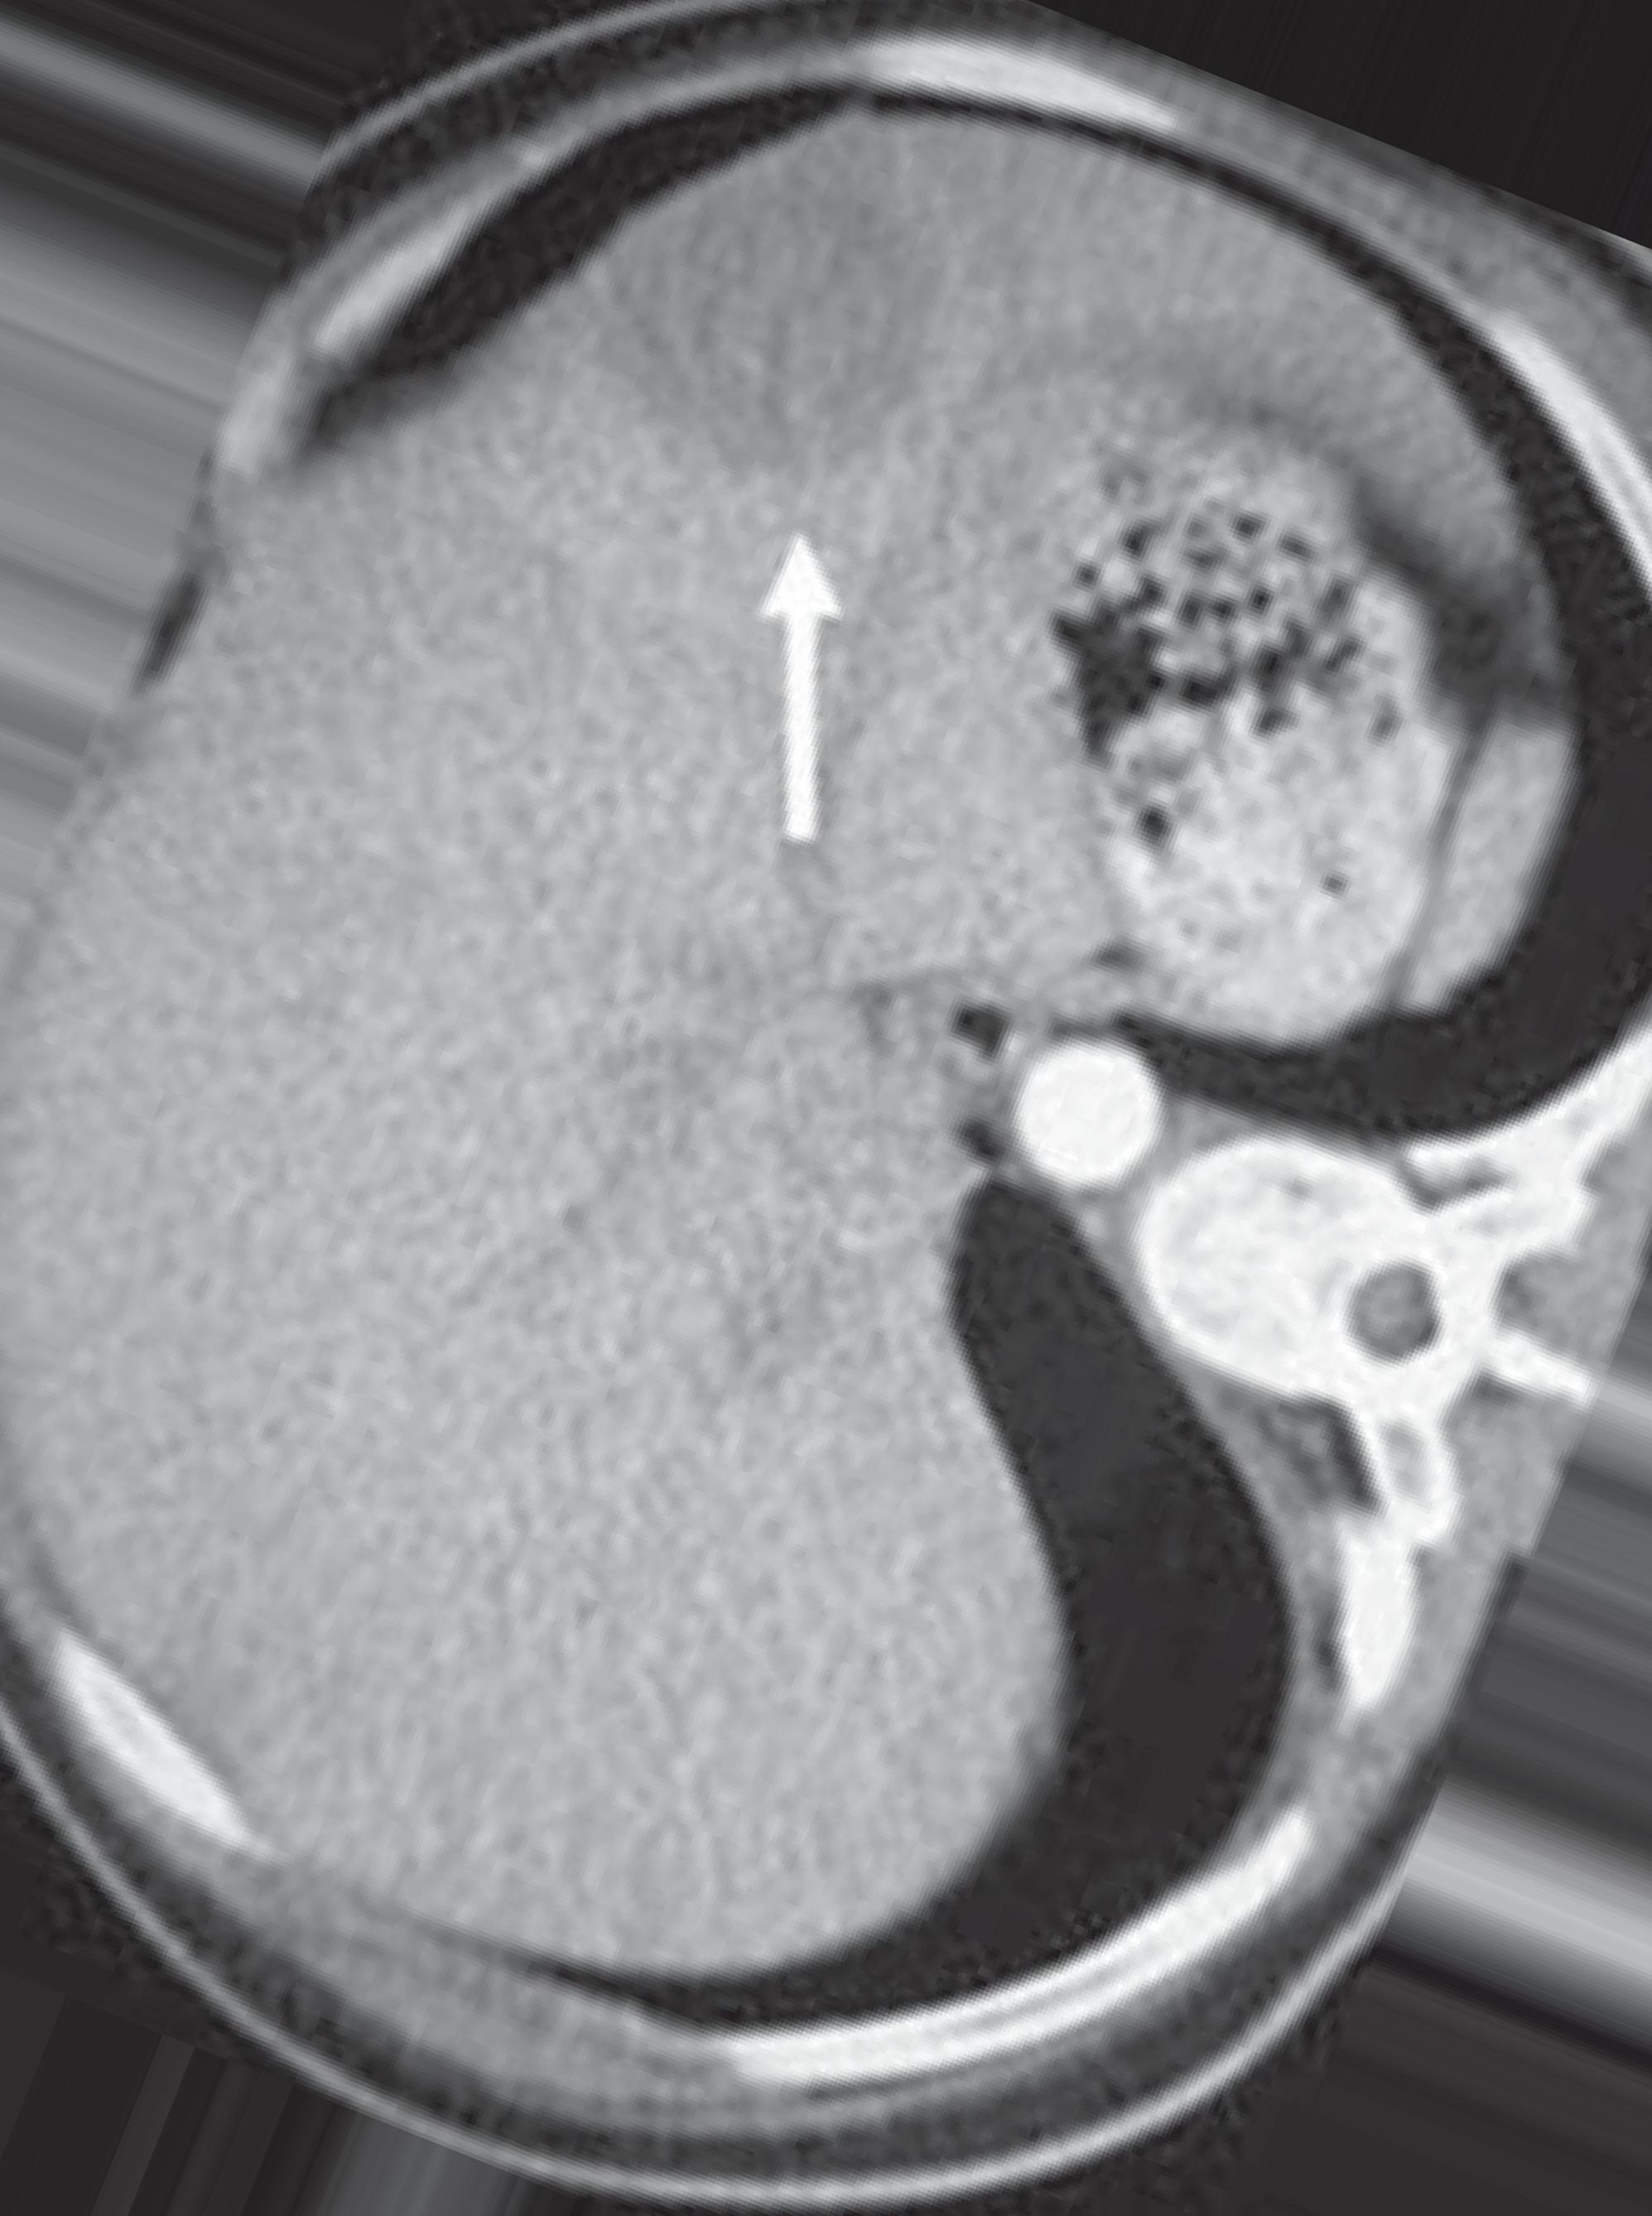anomaly: (588, 193, 954, 474)
